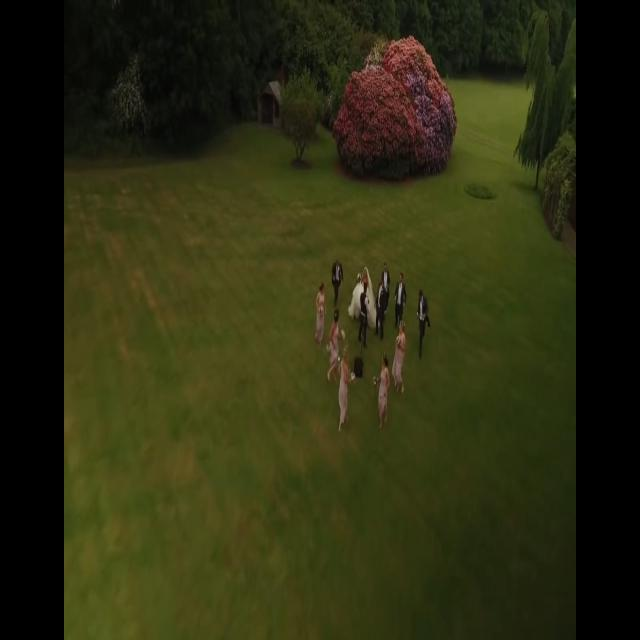humans: (392, 314, 411, 412), (374, 348, 393, 440), (416, 283, 432, 368), (338, 341, 352, 438), (313, 276, 329, 356), (326, 306, 341, 390), (392, 265, 411, 318), (357, 276, 370, 350), (329, 248, 346, 304), (376, 274, 389, 337)
